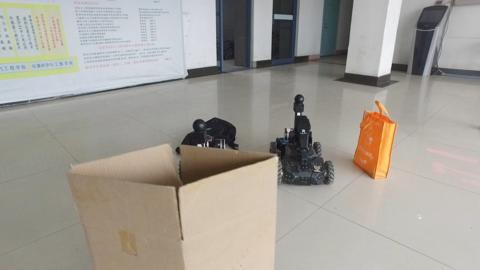bag: (354, 97, 393, 181)
chariot: (268, 93, 336, 186)
